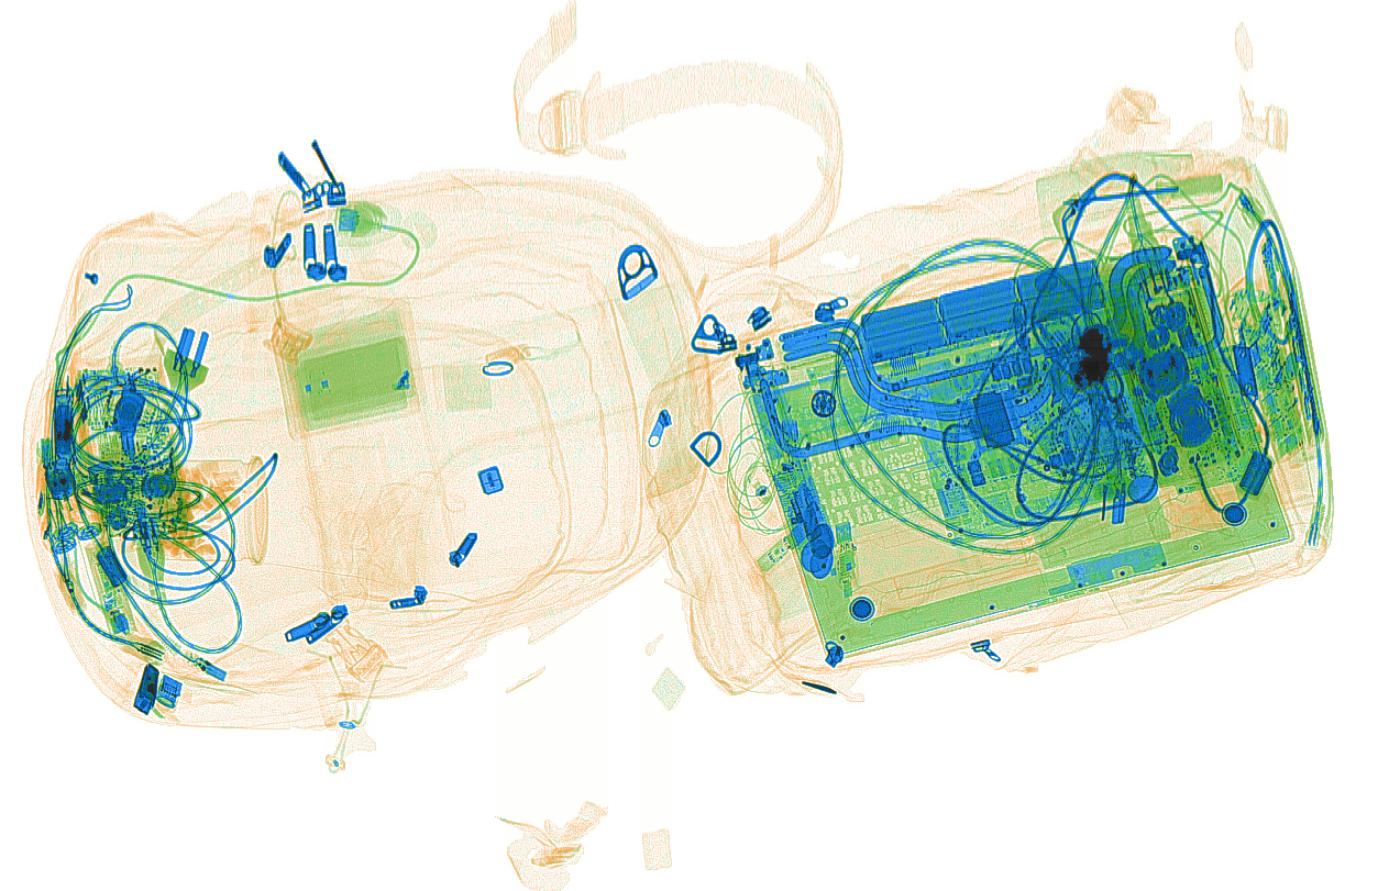USBFlashDisk: (753, 514, 812, 574)
battery: (49, 386, 75, 466)
